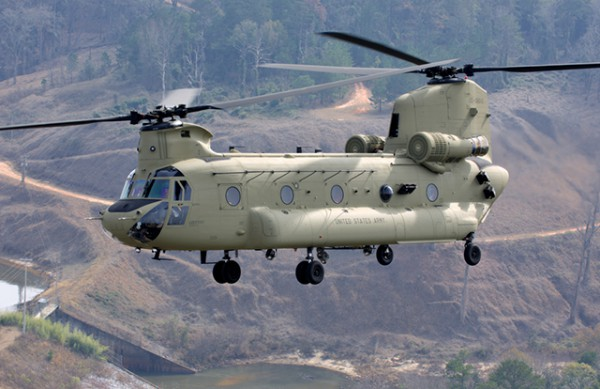chinook: (81, 30, 548, 273)
